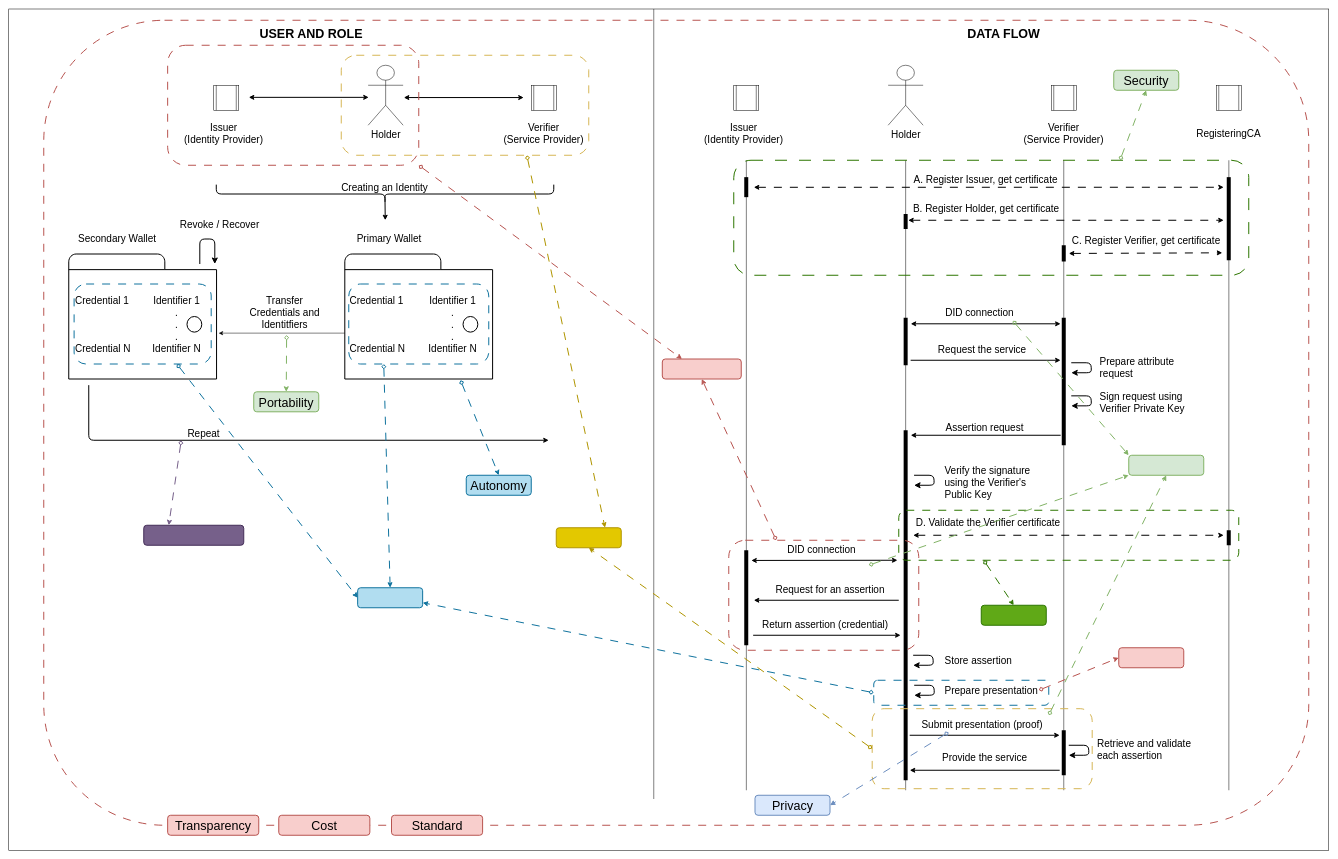
The diagram is 1338 pixels wide and 859 high, and some of its shapes have lost their labels. The shapes that lost their labels are listed below. From the top down, each one's centre as x and y in pixels, then its label:
[702,368]: Persistence
[1166,465]: Verifiability
[193,535]: Interoperability
[589,537]: Existence
[390,597]: Control
[1013,615]: Access
[1151,657]: Consent
